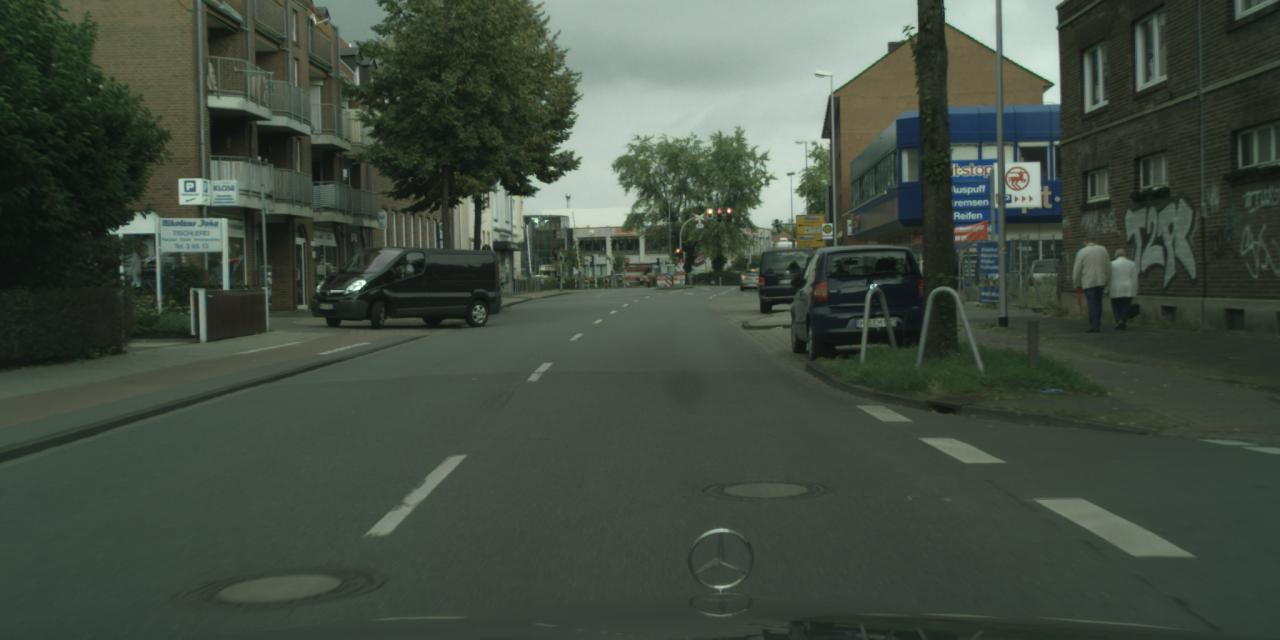ped: (1073, 234, 1113, 330), (1104, 248, 1137, 328), (556, 272, 563, 290)
